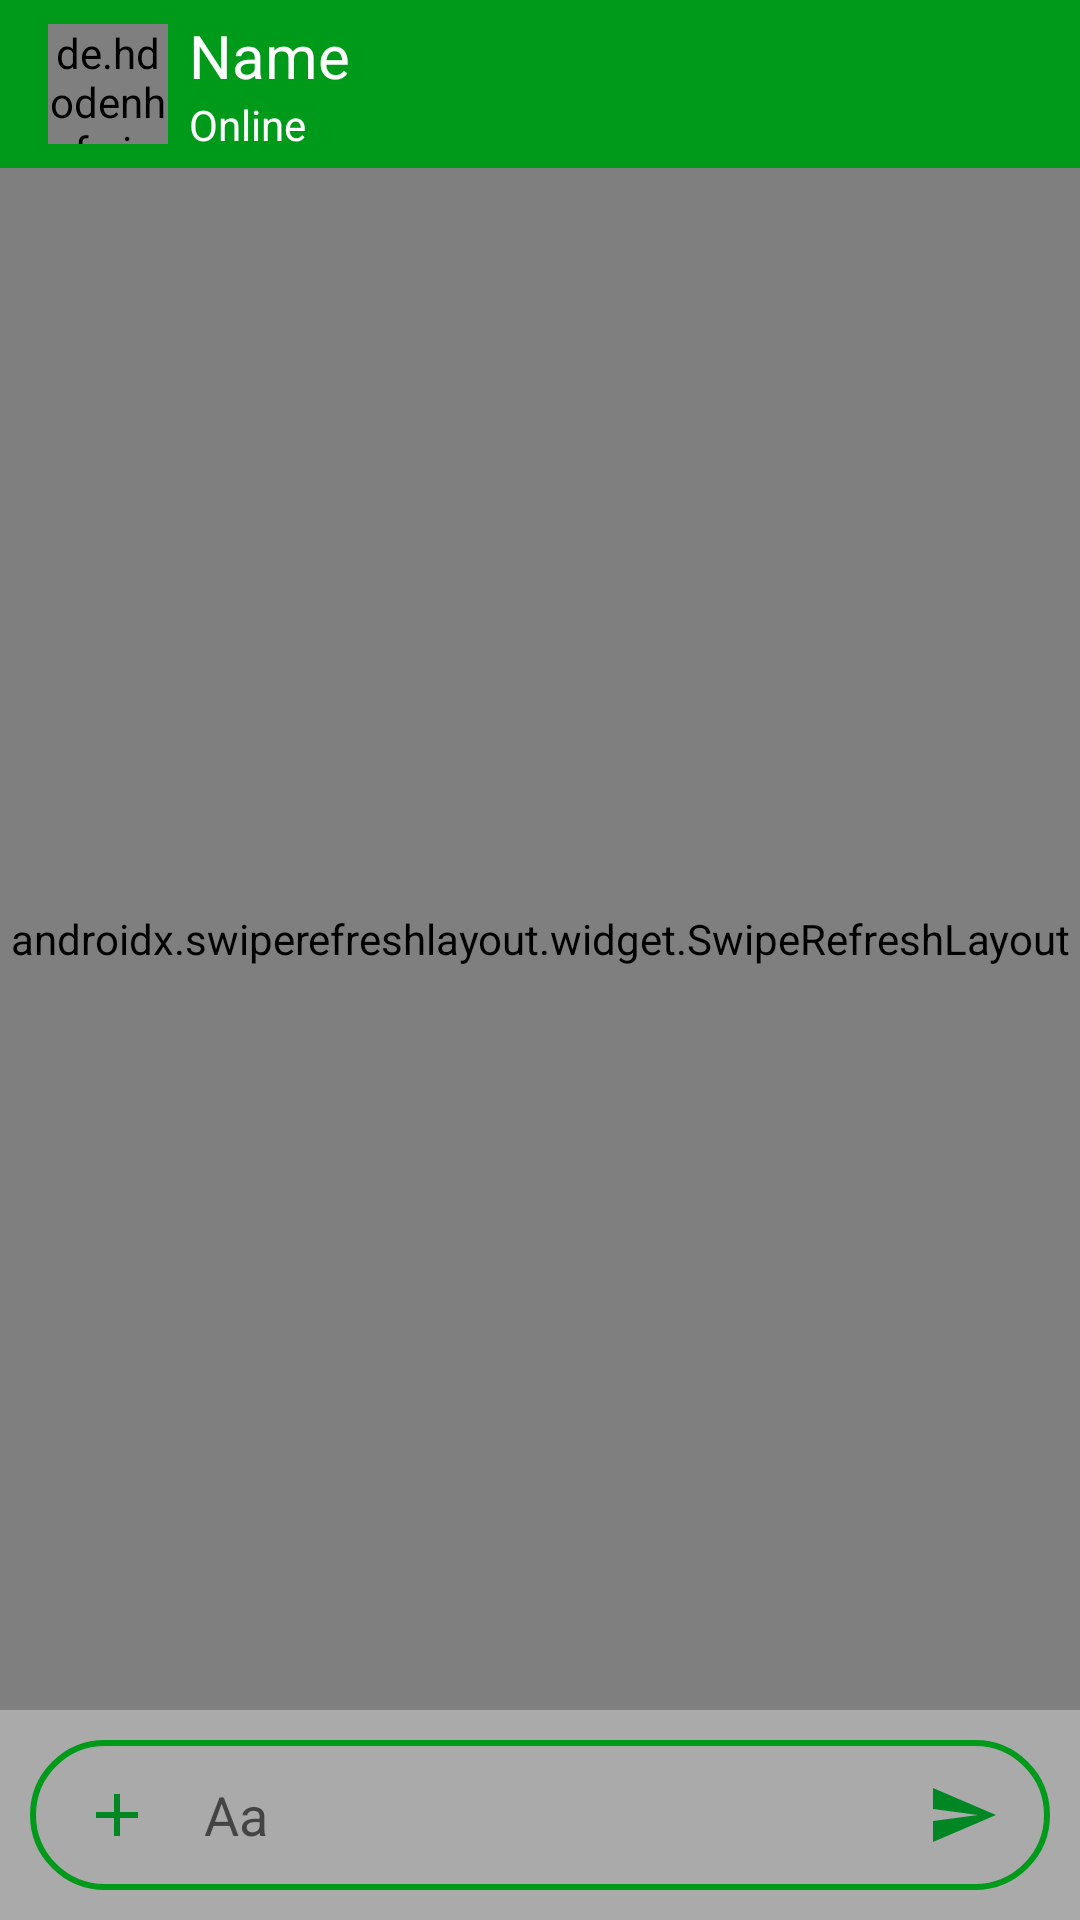

Icon click points for this 1080 x 1920 phone screenshot, format (x=x, y=y):
bplus: (x=117, y=1815)
send: (x=964, y=1815)
